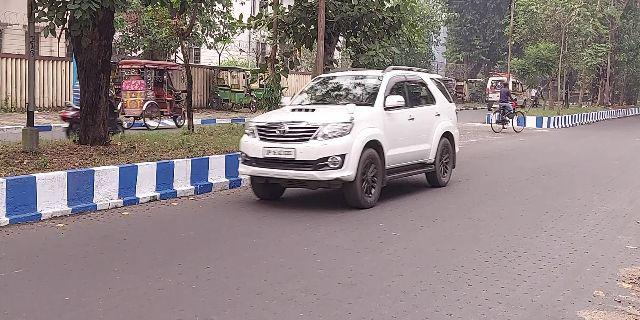Car: (239, 63, 465, 204)
Cycle: (489, 77, 531, 135)
Rickshaw: (119, 56, 197, 131)
